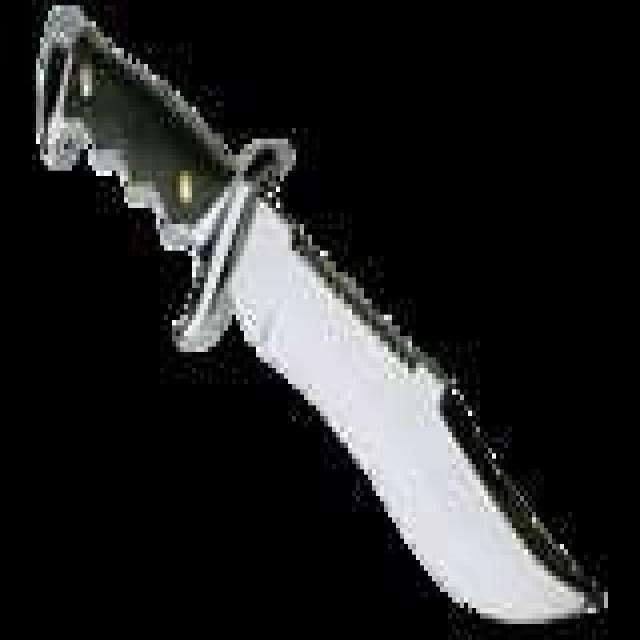Knife: (33, 3, 640, 640)
